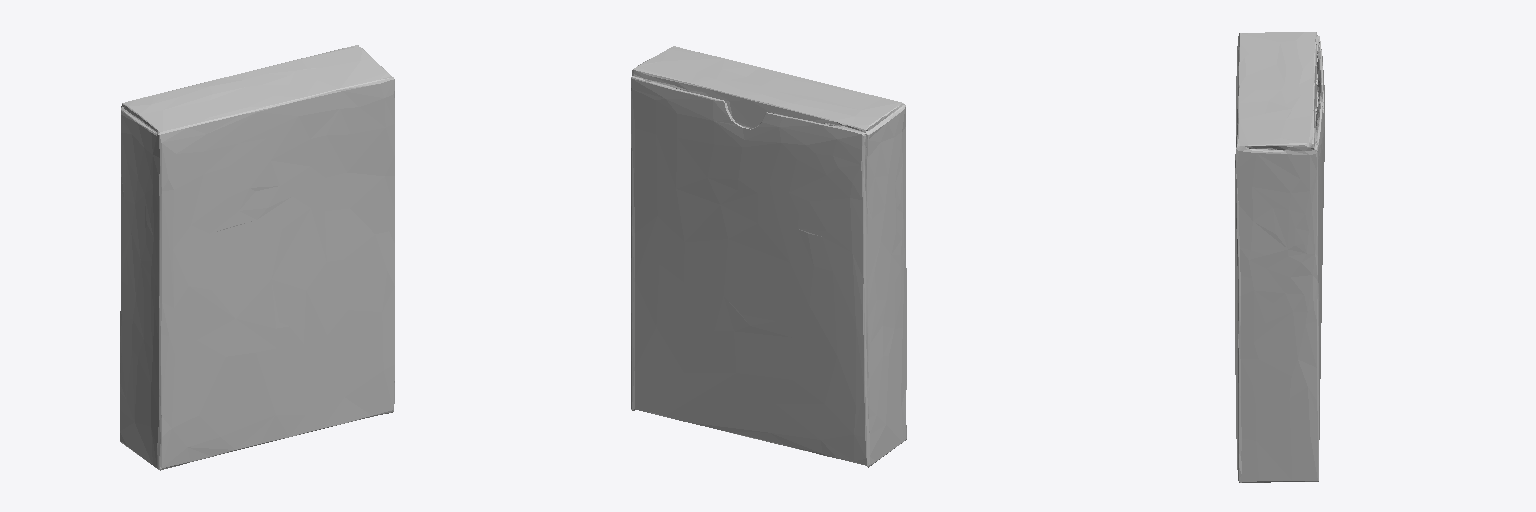
File: textured_simple.obj
3 views of the same model, side by side, from view 1: azimuth 30°, elevation 25°; view 2: azimuth 150°, elevation 25°; view 3: azimuth 270°, elevation 25° (orthographic).
Parts seen in each view (by area): view 1: textured.006; view 2: textured.006; view 3: textured.006.
Boxes of the visible parts, <box> form: textured.006: <box>120,45,394,470</box>; textured.006: <box>631,46,906,467</box>; textured.006: <box>1235,32,1324,482</box>.
Bounding box in the file's own units: 12.28 × 16.72 × 4.02.